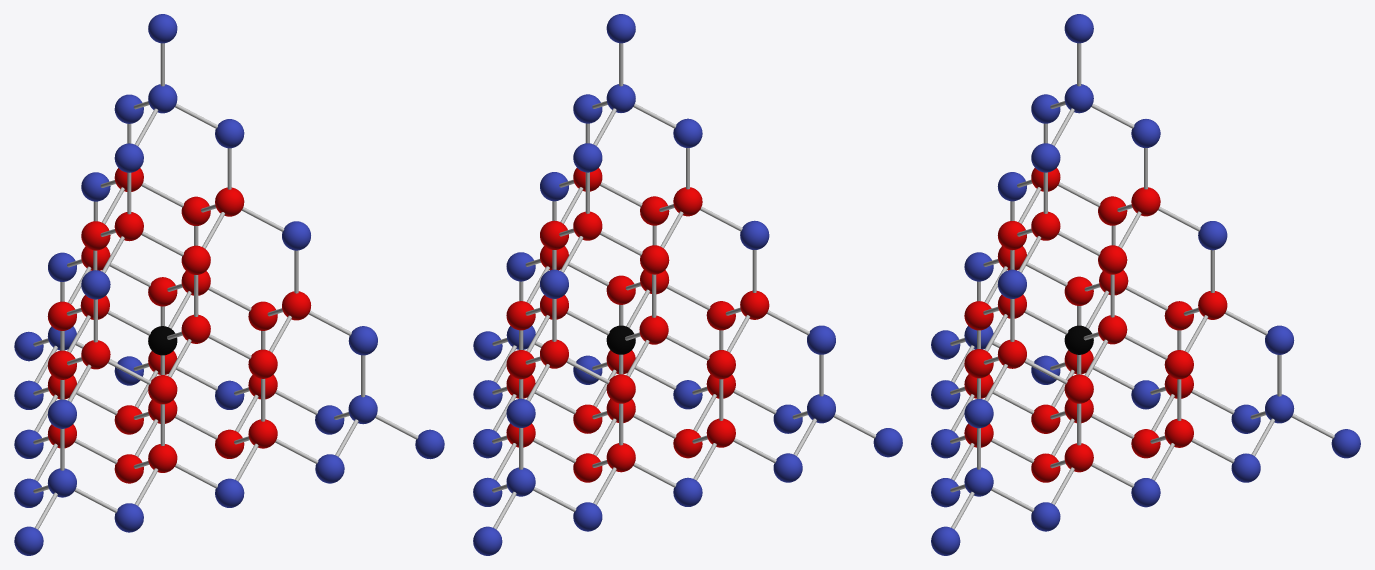
The model's file is index.gltf.
The picture shows the model from 3 angles, left to right: view 1: azimuth 30°, elevation 25°; view 2: azimuth 150°, elevation 25°; view 3: azimuth 270°, elevation 25°; orthographic projection.
Visible parts, largest first — view 1: node_Sphere080_-86556, node_Sphere038_-86492, node_Sphere069_-86540, node_Sphere044_-86504, node_Sphere060_-86530, node_Sphere035_-86486, node_Sphere076_-86550, node_Sphere072_-86544, node_Sphere041_-86498, node_Sphere097_-86582, node_Sphere042_-86500, node_Sphere059_-86528 (+33 smaller); view 2: node_Sphere085_-86564, node_Sphere039_-86494, node_Sphere079_-86554, node_Sphere088_-86568, node_Sphere049_-86514, node_Sphere035_-86486, node_Sphere084_-86562, node_Sphere090_-86572, node_Sphere038_-86492, node_Sphere046_-86508, node_Sphere047_-86510, node_Sphere044_-86504 (+33 smaller); view 3: node_Sphere037_-86490, node_Sphere056_-86522, node_Sphere035_-86486, node_Sphere083_-86560, node_Sphere075_-86548, node_Sphere043_-86502, node_Sphere104_-86588, node_Sphere064_-86536, node_Sphere072_-86544, node_Sphere084_-86562, node_Sphere041_-86498, node_Sphere047_-86510 (+33 smaller).
Part boxes in pixels (x1,y1,x2,y2): node_Sphere080_-86556: [14, 526, 43, 555]; node_Sphere038_-86492: [114, 143, 143, 172]; node_Sphere069_-86540: [248, 349, 277, 378]; node_Sphere044_-86504: [81, 270, 110, 299]; node_Sphere060_-86530: [148, 375, 177, 404]; node_Sphere035_-86486: [148, 14, 177, 43]; node_Sphere076_-86550: [114, 503, 143, 532]; node_Sphere072_-86544: [415, 429, 444, 459]; node_Sphere041_-86498: [282, 221, 310, 250]; node_Sphere097_-86582: [315, 454, 344, 483]; node_Sphere042_-86500: [181, 245, 210, 274]; node_Sphere059_-86528: [47, 399, 76, 428]; node_Sphere085_-86564: [506, 398, 535, 427]; node_Sphere039_-86494: [573, 143, 602, 172]; node_Sphere079_-86554: [773, 453, 802, 482]; node_Sphere088_-86568: [573, 502, 602, 531]; node_Sphere049_-86514: [606, 374, 635, 403]; node_Sphere035_-86486: [606, 14, 635, 43]; node_Sphere084_-86562: [473, 526, 502, 555]; node_Sphere090_-86572: [673, 477, 702, 506]; node_Sphere038_-86492: [673, 118, 702, 147]; node_Sphere046_-86508: [640, 245, 669, 274]; node_Sphere047_-86510: [540, 269, 568, 298]; node_Sphere044_-86504: [740, 220, 769, 249]; node_Sphere037_-86490: [1031, 143, 1060, 172]; node_Sphere056_-86522: [964, 399, 993, 428]; node_Sphere035_-86486: [1064, 14, 1093, 43]; node_Sphere083_-86560: [1231, 453, 1260, 482]; node_Sphere075_-86548: [1031, 502, 1060, 531]; node_Sphere043_-86502: [1098, 245, 1127, 274]; node_Sphere104_-86588: [1131, 478, 1160, 507]; node_Sphere064_-86536: [1064, 374, 1093, 403]; node_Sphere072_-86544: [931, 526, 960, 555]; node_Sphere084_-86562: [1331, 429, 1360, 458]; node_Sphere041_-86498: [997, 269, 1026, 298]; node_Sphere047_-86510: [1198, 221, 1227, 250].
Size of the model in its own units: 0.9717 by 0.9631 by 0.8498.
